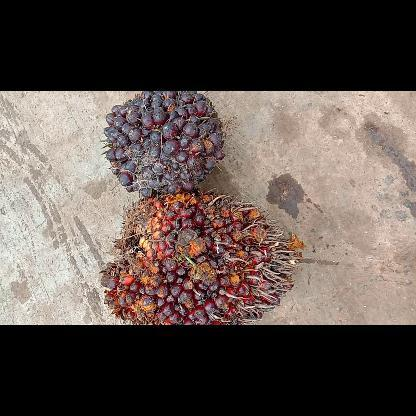TBS masak: (100, 188, 300, 324)
TBS mentah: (100, 91, 226, 197)
